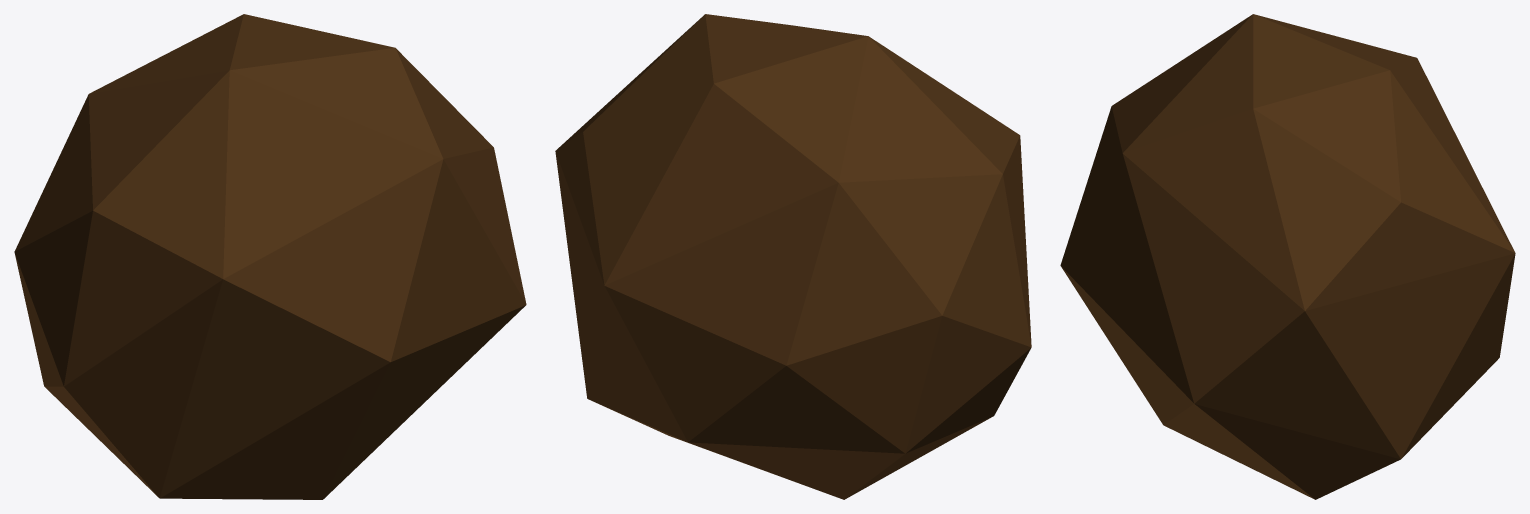
The model's file is asteroid6.fbx.
The picture shows the model from 3 angles, left to right: view 1: azimuth 30°, elevation 25°; view 2: azimuth 150°, elevation 25°; view 3: azimuth 270°, elevation 25°; orthographic projection. The views are drawn at different scales.
Visible parts, largest first — view 1: quickmaterial1; view 2: quickmaterial1; view 3: quickmaterial1.
Boxes of the visible parts, x1=… form: quickmaterial1: x1=14, y1=14, x2=526, y2=499; quickmaterial1: x1=555, y1=14, x2=1031, y2=499; quickmaterial1: x1=1060, y1=14, x2=1515, y2=499.
Bounding box in the file's own units: 2.76 × 2.59 × 2.49.
